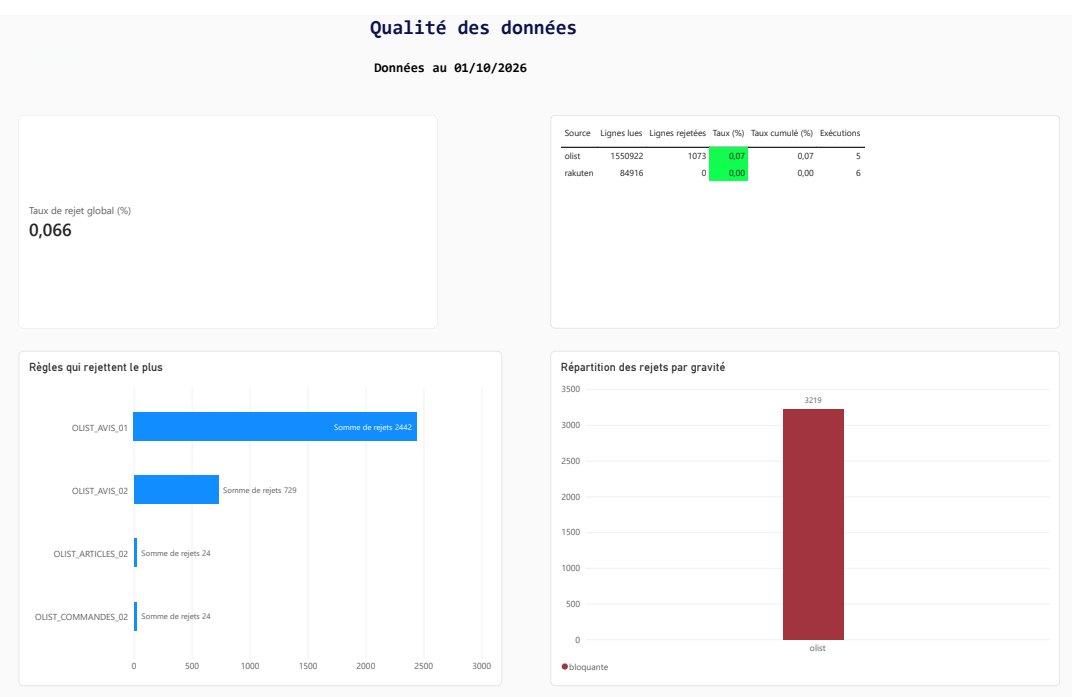

The page's visual inventory and layout, read from the dashboard file:
{"tool":"powerbi","page":{"name":"Qualité","canvas":[1920,1080],"ordinal":0},"visuals":[{"type":"cardVisual","fields":{"Data":["Max(quarantaine v_taux_rejet_global.taux_rejet_pourcent)"]},"box":[240,160,676,344],"z":0},{"type":"tableEx","fields":{"Values":["quarantaine v_taux_rejet_par_source.source","Sum(quarantaine v_taux_rejet_par_source.lignes_lues)","Sum(quarantaine v_taux_rejet_par_source.lignes_rejetees)","Avg(quarantaine v_taux_rejet_par_source.taux_rejet_pourcent)","Avg(quarantaine v_taux_rejet_par_source.taux_rejet_cumule_pourcent)","Sum(quarantaine v_taux_rejet_par_source.executions)"]},"box":[1098,160,822,344],"z":1000},{"type":"clusteredBarChart","title":"Règles qui rejettent le plus","fields":{"Category":["quarantaine v_taux_rejet_par_regle.regle"],"Y":["Sum(quarantaine v_taux_rejet_par_regle.rejets)"]},"box":[240,540,780,540],"z":2000},{"type":"columnChart","title":"Répartition des rejets par gravité","fields":{"Category":["quarantaine v_rejets_par_gravite.source"],"Series":["quarantaine v_rejets_par_gravite.gravite"],"Y":["Sum(quarantaine v_rejets_par_gravite.rejets)"]},"box":[1098,540,822,540],"z":3000},{"type":"textbox","box":[130,0,1690,90],"z":4000},{"type":"textbox","box":[155.7,52.9,222.9,35.7],"z":5000},{"type":"textbox","box":[813.3,70,266.7,46.7],"z":6000}]}

Visuals, with their boxes on the page's 1920x1080 design canvas (x1, y1, x2, y2). These are canvas units, not pixel positions in the 1072x697 screenshot, which may show the page scaled, cropped or inside an application window:
cardVisual - Max(quarantaine v_taux_rejet_global.taux_rejet_pourcent): box=[240, 160, 916, 504]
tableEx - quarantaine v_taux_rejet_par_source.source x Sum(quarantaine v_taux_rejet_par_source.lignes_lues): box=[1098, 160, 1920, 504]
"Règles qui rejettent le plus" clusteredBarChart: box=[240, 540, 1020, 1080]
"Répartition des rejets par gravité" columnChart: box=[1098, 540, 1920, 1080]
textbox: box=[130, 0, 1820, 90]
textbox: box=[156, 53, 379, 89]
textbox: box=[813, 70, 1080, 117]
